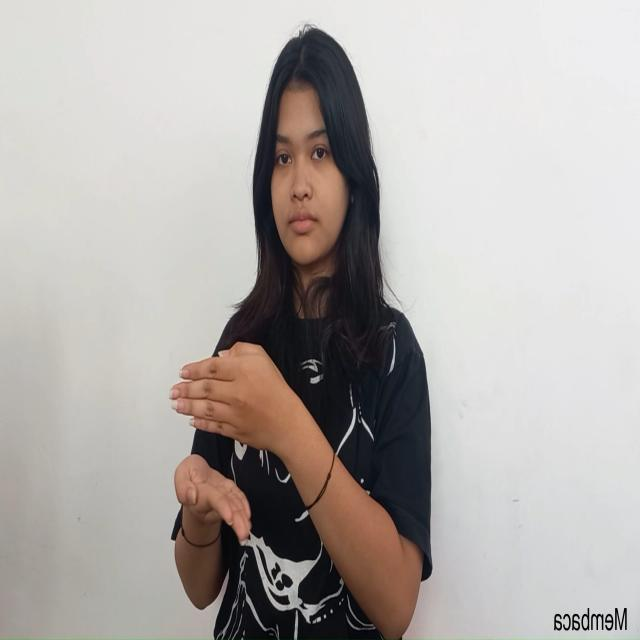Membaca -BISINDO-: (168, 340, 288, 547)
